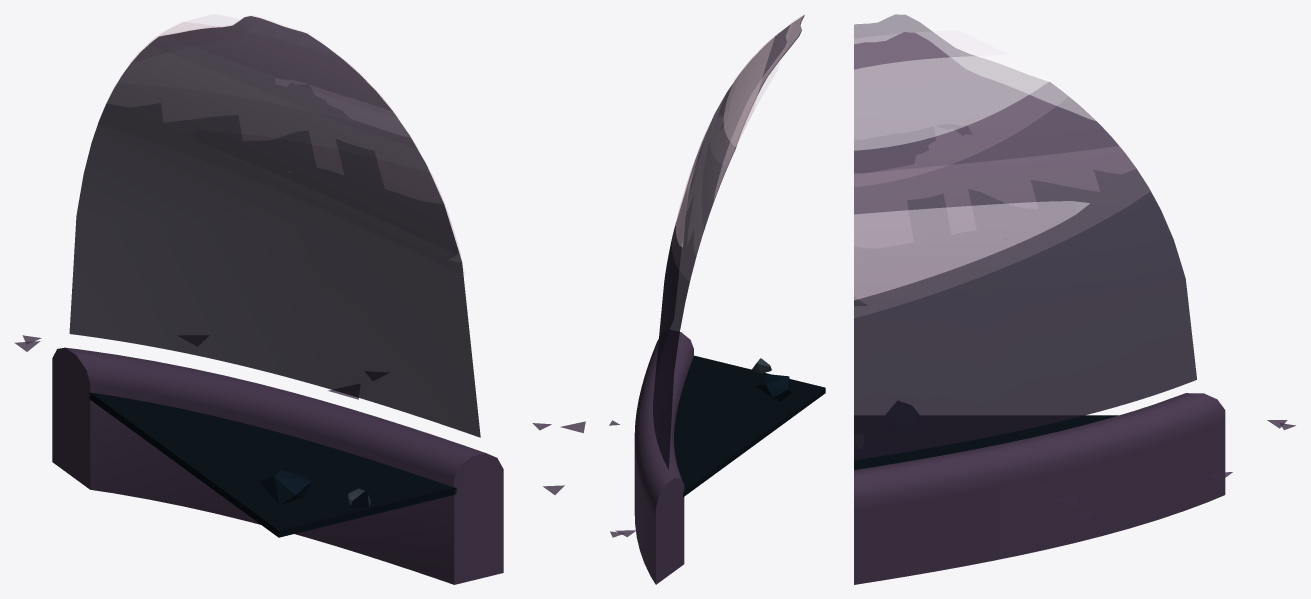
Rendered from purple_dome_tr_wreck.glb.
3 renders of one model, left to right at view 1: azimuth 30°, elevation 25°; view 2: azimuth 150°, elevation 25°; view 3: azimuth 270°, elevation 25°, orthographic. The views are drawn at different scales.
Parts seen in each view (by area): view 1: purple_dome_tr_wreck; view 2: purple_dome_tr_wreck; view 3: purple_dome_tr_wreck.
Boxes of the visible parts, left/top/right/bottom form: purple_dome_tr_wreck: left=14, top=14, right=503, bottom=584; purple_dome_tr_wreck: left=532, top=14, right=825, bottom=584; purple_dome_tr_wreck: left=854, top=14, right=1295, bottom=584.
Size of the model in its own units: 11.68 by 26.22 by 21.74.
